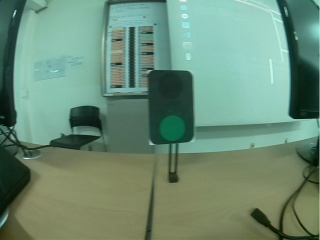green_light: (147, 70, 199, 147)
